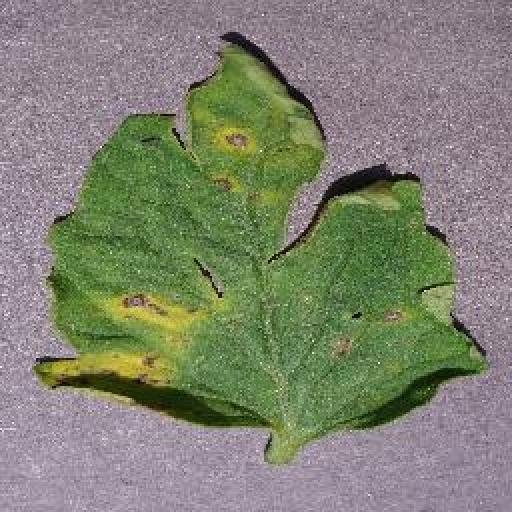Septoria: (35, 38, 491, 438)
